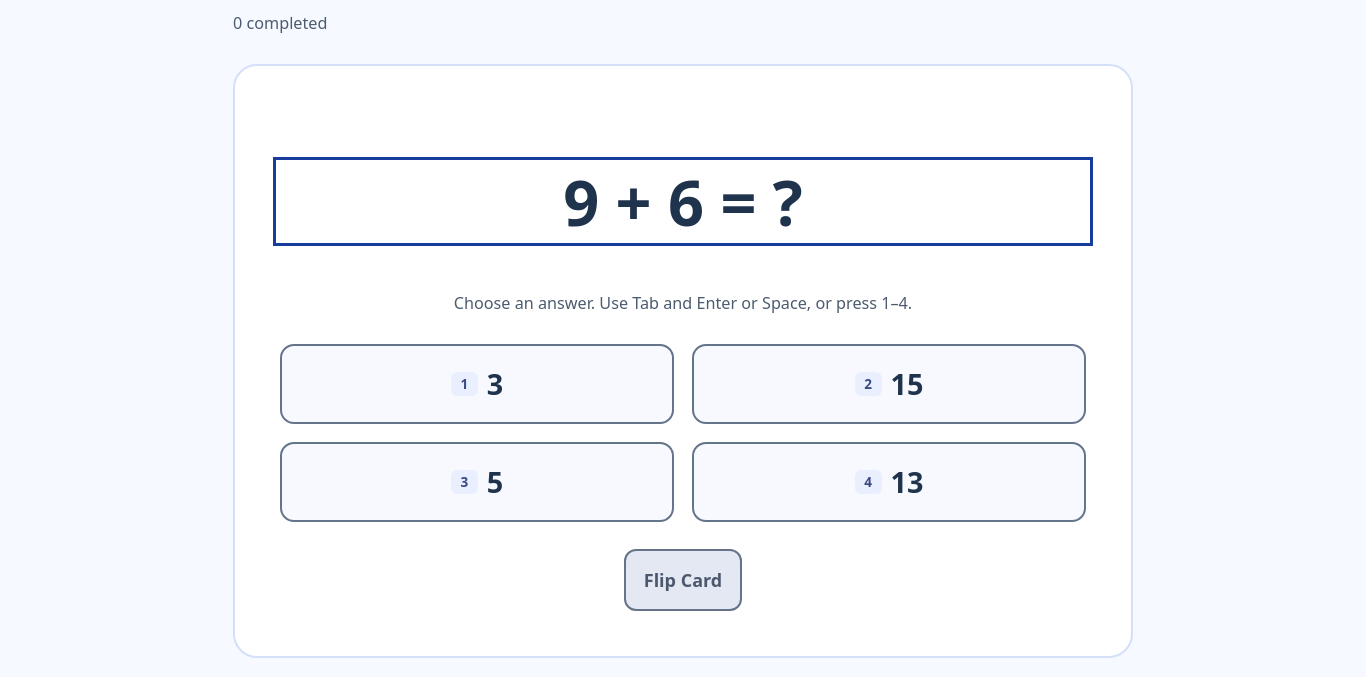
Test case: saved statistics and settings › continues practicing in memory and warns when storage writes fail
This screenshot has width=1366, height=677.
(page scrolled)
Click the button "1 3".
click(477, 384)  # box [280, 344, 674, 424]
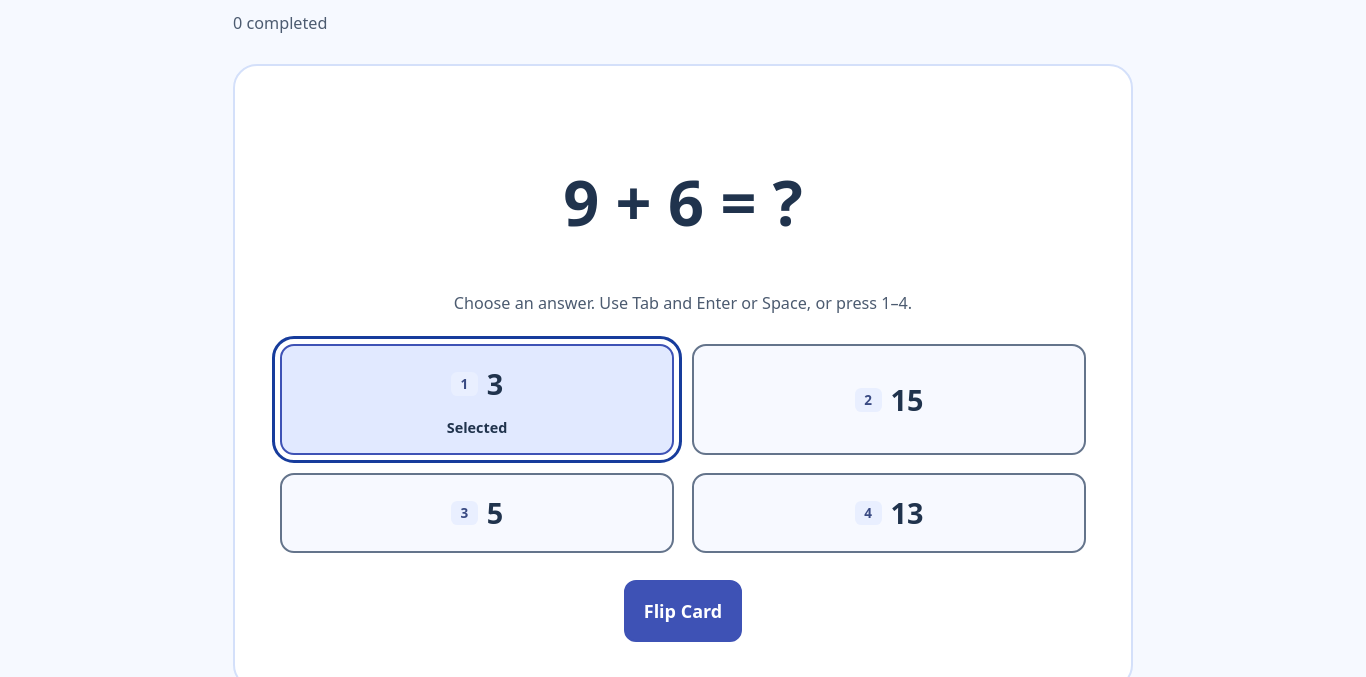
Click the button "Flip Card".
click(683, 611)  # box [624, 580, 742, 642]
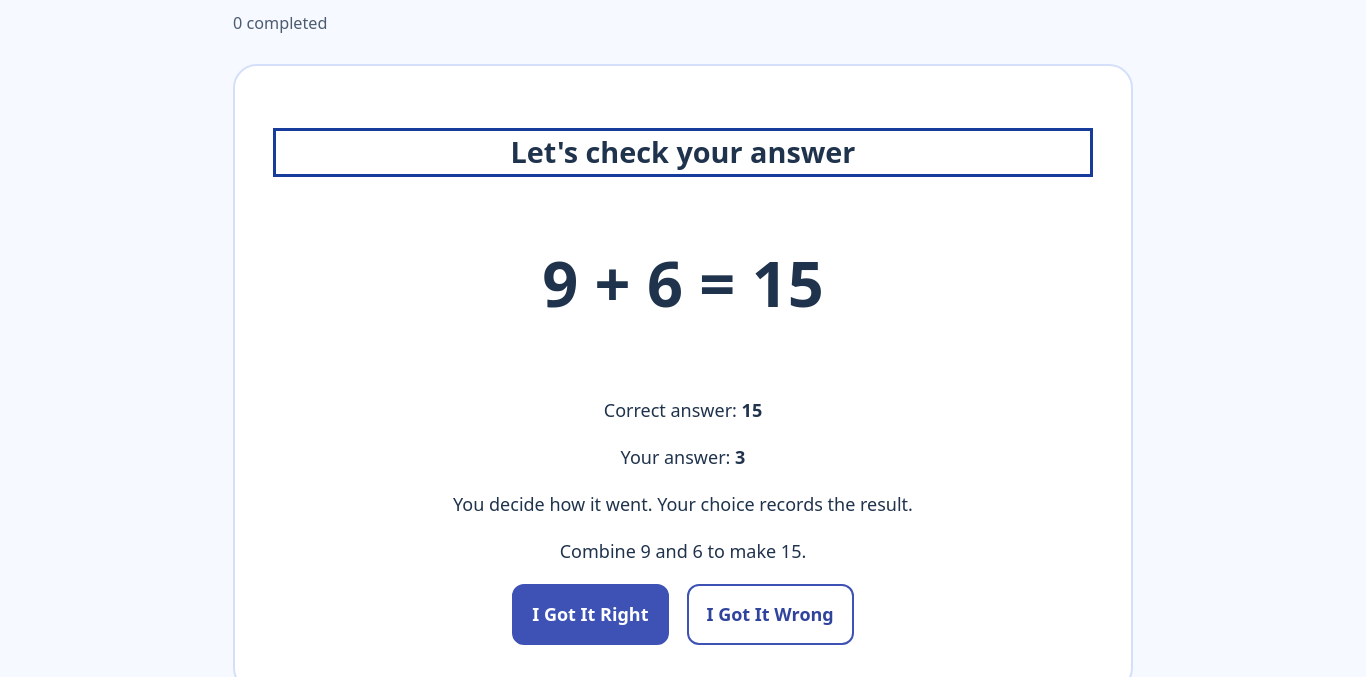
Click the button "I Got It Right".
click(590, 614)  # box [512, 584, 669, 645]
(page scrolled)
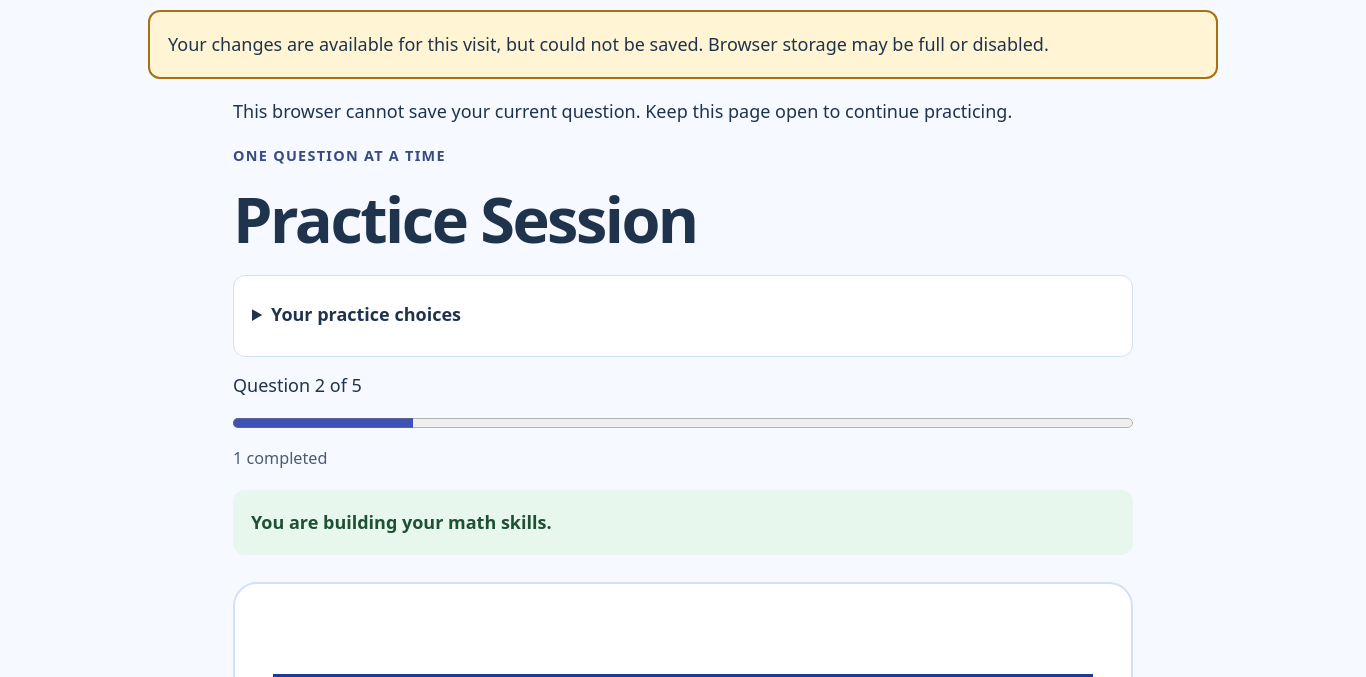
Expected: the text "Question 2 of 5" is shown, [233, 372, 362, 396]
